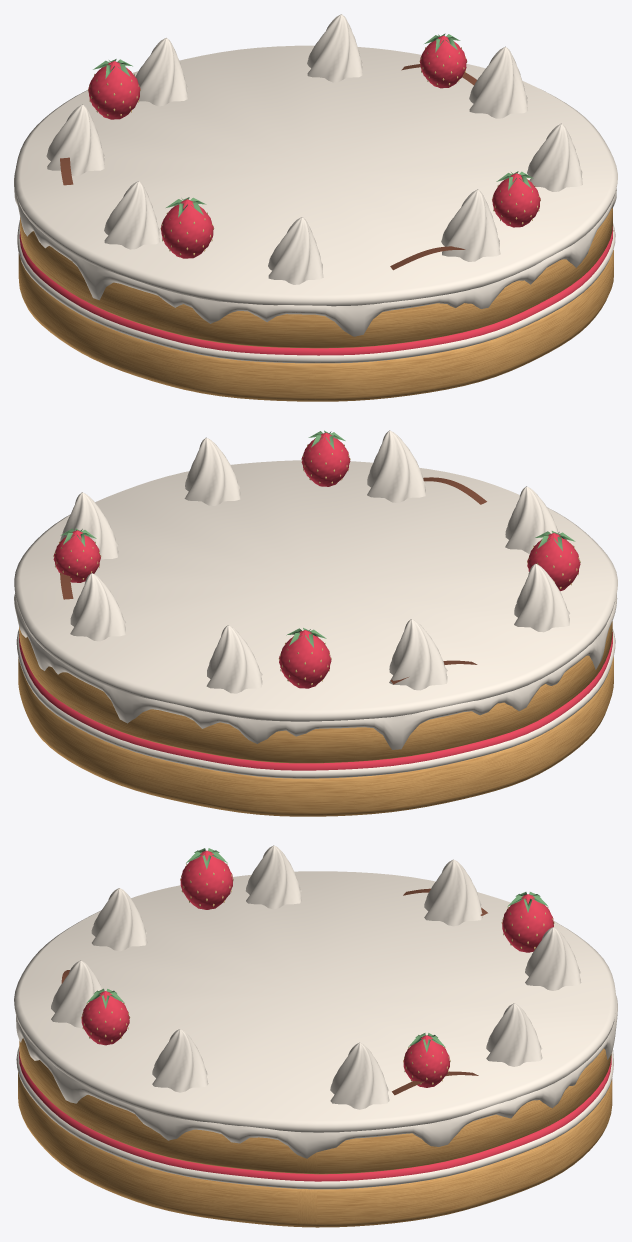
File: GF_StrawberryCake.fbx
3 views of the same model, one above another, from view 1: azimuth 30°, elevation 25°; view 2: azimuth 150°, elevation 25°; view 3: azimuth 270°, elevation 25° (orthographic).
Visible parts, largest first — view 1: GF_StrawberryCake_LOD0; view 2: GF_StrawberryCake_LOD0; view 3: GF_StrawberryCake_LOD0.
Part boxes in pixels (<box>): GF_StrawberryCake_LOD0: <box>14,14,617,401</box>; GF_StrawberryCake_LOD0: <box>14,430,617,816</box>; GF_StrawberryCake_LOD0: <box>14,845,617,1227</box>.
Size of what is drawn, in the model's own units: 301 by 91.22 by 302.
